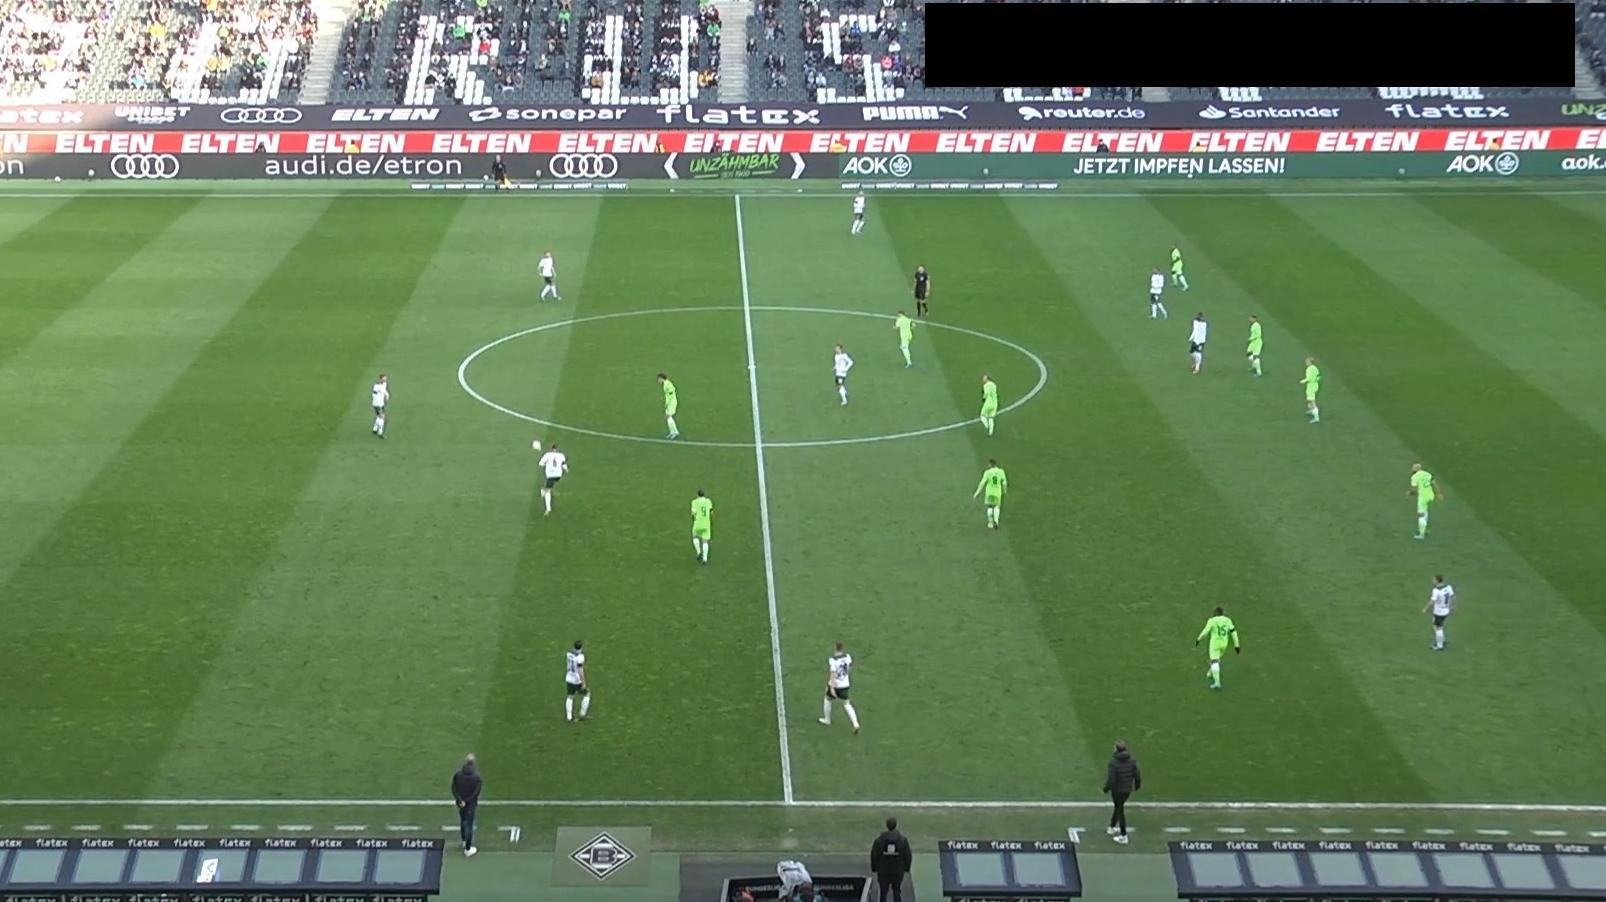ball: (529, 438, 543, 451)
